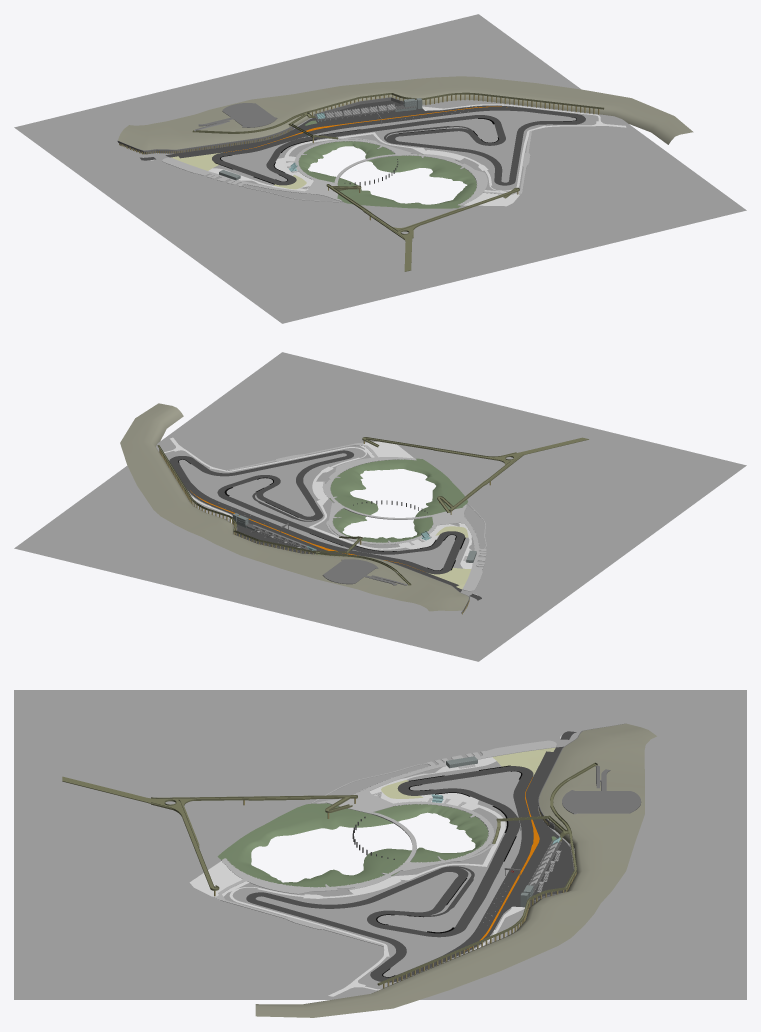
The model's file is 12 pista medidas.fbx.
3 renders of one model, top to bottom at view 1: azimuth 30°, elevation 25°; view 2: azimuth 150°, elevation 25°; view 3: azimuth 270°, elevation 25°, orthographic. The views are drawn at different scales.
Parts seen in each view (by area): view 1: terreno_test, ladera, pista, terreno_lago, acera_parque, aceras_pista, asfalto_pits, concreto_parqueadero, puente_lejano, puente, pilares6, trampas_de_arena; view 2: terreno_test, ladera, pista, terreno_lago, acera_parque, aceras_pista, puente_lejano, asfalto_pits, concreto_parqueadero, puente, trampas_de_arena; view 3: terreno_test, ladera, pista, terreno_lago, acera_parque, aceras_pista, asfalto_pits, puente_lejano, concreto_parqueadero, puente, trampas_de_arena, pilares6.
Part boxes in pixels (left/top/right/bottom): terreno_test: left=14, top=14, right=746, bottom=323; ladera: left=118, top=76, right=693, bottom=150; pista: left=212, top=107, right=585, bottom=185; terreno_lago: left=298, top=141, right=476, bottom=208; acera_parque: left=162, top=130, right=531, bottom=205; aceras_pista: left=150, top=104, right=626, bottom=206; asfalto_pits: left=140, top=100, right=526, bottom=160; concreto_parqueadero: left=117, top=103, right=294, bottom=154; puente_lejano: left=326, top=184, right=519, bottom=271; puente: left=192, top=92, right=604, bottom=139; pilares6: left=119, top=94, right=599, bottom=220; trampas_de_arena: left=171, top=152, right=306, bottom=189; terreno_test: left=14, top=352, right=746, bottom=661; ladera: left=120, top=403, right=468, bottom=611; pista: left=169, top=450, right=464, bottom=574; terreno_lago: left=329, top=458, right=467, bottom=542; acera_parque: left=226, top=442, right=486, bottom=591; aceras_pista: left=164, top=437, right=477, bottom=595; puente_lejano: left=362, top=437, right=588, bottom=512; asfalto_pits: left=183, top=483, right=481, bottom=600; concreto_parqueadero: left=322, top=555, right=469, bottom=613; puente: left=157, top=445, right=411, bottom=585; trampas_de_arena: left=428, top=526, right=471, bottom=589; terreno_test: left=14, top=690, right=746, bottom=999; ladera: left=255, top=723, right=656, bottom=1017; pista: left=246, top=766, right=533, bottom=982; terreno_lago: left=217, top=803, right=488, bottom=887; acera_parque: left=213, top=740, right=556, bottom=946; aceras_pista: left=189, top=735, right=561, bottom=996; asfalto_pits: left=451, top=731, right=576, bottom=958; puente_lejano: left=62, top=776, right=357, bottom=890; concreto_parqueadero: left=538, top=723, right=641, bottom=829; puente: left=377, top=762, right=597, bottom=985; trampas_de_arena: left=381, top=747, right=555, bottom=798; pilares6: left=214, top=798, right=576, bottom=988.
Bounding box in the file's own units: 1051 × 24.02 × 973.
